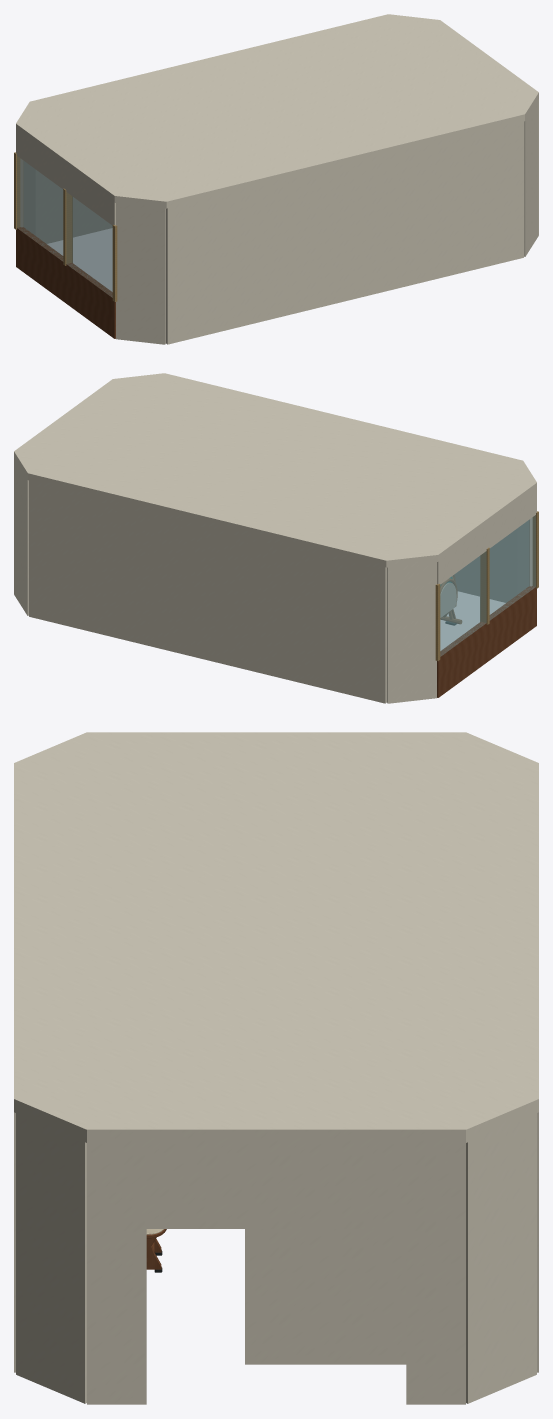
The model's file is D04_PORT_FORWARD_HOME_904_r001.glb.
3 renders of one model, top to bottom at view 1: azimuth 30°, elevation 25°; view 2: azimuth 150°, elevation 25°; view 3: azimuth 270°, elevation 25°, orthographic. The views are drawn at different scales.
Visible parts, largest first — view 1: D04H904_Roof, D04H904_Shell_3, D04H904_GardenGlass, D04H904_Shell_2, D04H904_GardenDado, D04H904_Shell_7, D04H904_GardenHead, D04H904_Shell_4, D04H904_Shell_0, D04H904_WindowMullion_1, D04H904_WindowMullion_0, D04H904_WindowMullion_2; view 2: D04H904_Roof, D04H904_Shell_7, D04H904_GardenGlass, D04H904_Shell_0, D04H904_GardenDado, D04H904_GardenHead, D04H904_Shell_3, D04H904_Shell_6, D04H904_Shell_2, D04H904_WindowMullion_1, D04H904_WindowMullion_2, D04H904_WindowMullion_0 (+1 smaller); view 3: D04H904_Roof, D04H904_EntryHeader, D04H904_BathDogleg, D04H904_Shell_4, D04H904_Shell_6, D04H904_EntryWall_0, D04H904_EntryWall_1, D04H904_BathScreen.
Boxes of the visible parts, <box> form: D04H904_Roof: <box>16,14,538,208</box>; D04H904_Shell_3: <box>166,121,523,344</box>; D04H904_GardenGlass: <box>17,156,112,297</box>; D04H904_Shell_2: <box>116,203,165,344</box>; D04H904_GardenDado: <box>16,227,115,338</box>; D04H904_Shell_7: <box>36,170,112,243</box>; D04H904_GardenHead: <box>16,131,115,225</box>; D04H904_Shell_4: <box>524,100,538,256</box>; D04H904_Shell_0: <box>20,158,35,235</box>; D04H904_WindowMullion_1: <box>63,188,72,265</box>; D04H904_WindowMullion_0: <box>14,152,20,229</box>; D04H904_WindowMullion_2: <box>112,225,117,301</box>; D04H904_Roof: <box>14,373,536,567</box>; D04H904_Shell_7: <box>29,480,386,703</box>; D04H904_GardenGlass: <box>440,515,535,656</box>; D04H904_Shell_0: <box>387,562,436,703</box>; D04H904_GardenDado: <box>437,586,536,697</box>; D04H904_GardenHead: <box>437,490,536,584</box>; D04H904_Shell_3: <box>454,529,516,602</box>; D04H904_Shell_6: <box>14,459,28,615</box>; D04H904_Shell_2: <box>517,517,532,594</box>; D04H904_WindowMullion_1: <box>480,547,489,624</box>; D04H904_WindowMullion_2: <box>532,511,538,588</box>; D04H904_WindowMullion_0: <box>435,584,440,660</box>; D04H904_Roof: <box>14,732,538,1142</box>; D04H904_EntryHeader: <box>146,1143,406,1228</box>; D04H904_BathDogleg: <box>245,1229,406,1364</box>; D04H904_Shell_4: <box>16,1113,86,1403</box>; D04H904_Shell_6: <box>466,1113,536,1403</box>; D04H904_EntryWall_0: <box>406,1143,465,1404</box>; D04H904_EntryWall_1: <box>87,1143,146,1404</box>; D04H904_BathScreen: <box>245,1229,258,1364</box>.
Bounding box in the file's own units: 12.92 × 4.16 × 7.2.
Materials: 35 (20 with a texture image).
